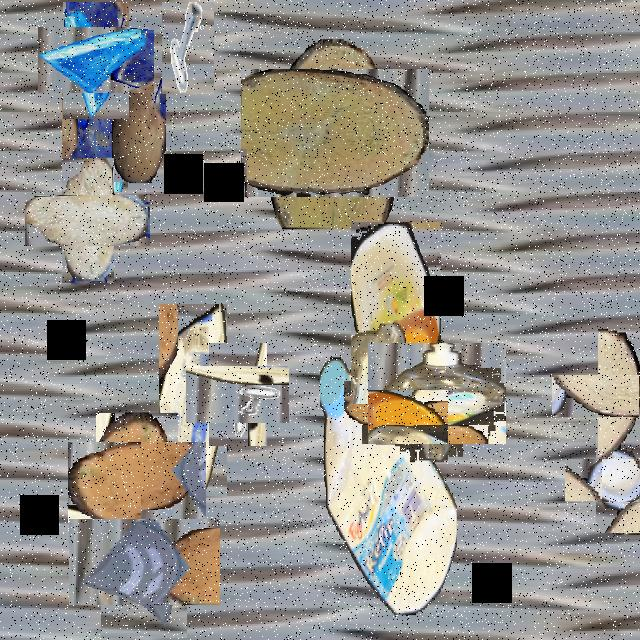glass: (84, 502, 204, 622), (50, 15, 142, 106), (62, 75, 128, 192)
metal: (198, 354, 278, 435), (162, 2, 214, 94)
plastic: (320, 356, 456, 615), (351, 222, 441, 404), (377, 333, 497, 453), (159, 304, 227, 496), (580, 442, 640, 517)
wood: (256, 54, 414, 213), (82, 427, 192, 537), (44, 176, 132, 265), (574, 352, 640, 440), (112, 78, 166, 182), (352, 372, 416, 435)
